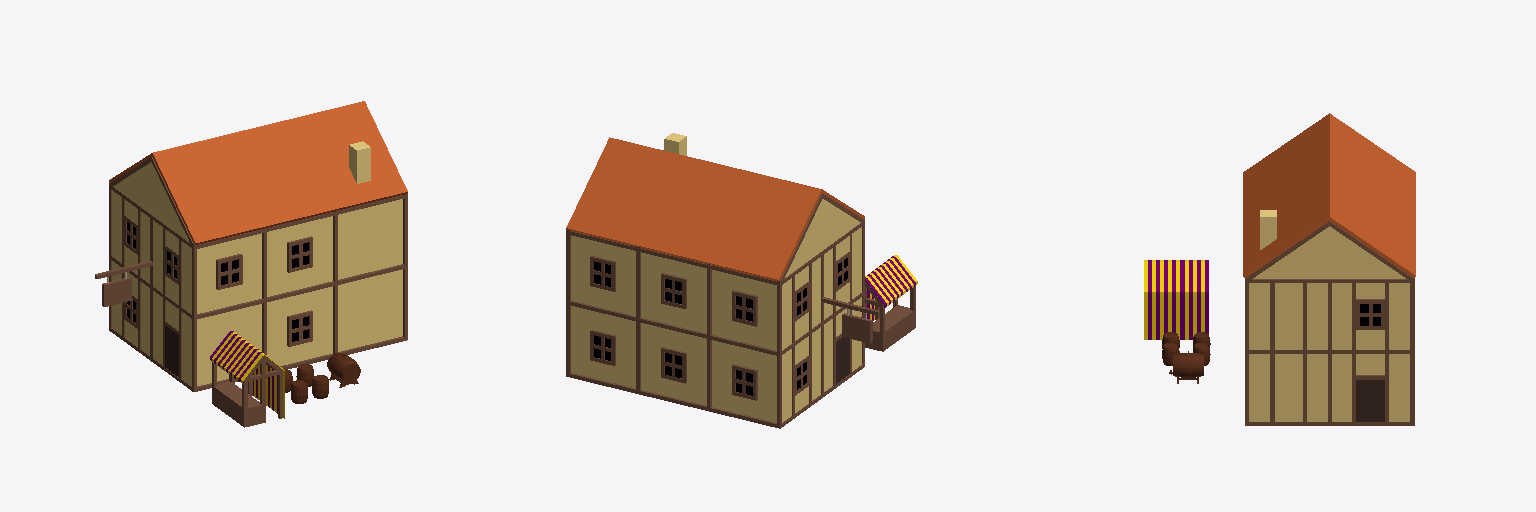
Rendered from timberframedvintner_purple_yellow.obj.
3 renders of one model, left to right at view 1: azimuth 30°, elevation 25°; view 2: azimuth 150°, elevation 25°; view 3: azimuth 270°, elevation 25°, orthographic.
Parts seen in each view (by area): view 1: Cube.005, Cube.007_Cube.011, Cube.011_Cube.015, Cube.018_Cube.016, Cube.056_Cube.081, barrel_Untitled, Cube.001_Cube.058, Cube.013_Cube.080, Cube.006_Cube.010, Cube.026_Cube.019, Cube.073_Cube.078, Cube.012_Cube.017 (+6 smaller); view 2: Cube.005, Cube.007_Cube.011, Cube.023_Cube.026, Cube.022_Cube.025, Cube.021_Cube.024, Cube.015_Cube.020, Cube.019_Cube.022, Cube.017_Cube.021, Cube.014_Cube.018, Cube.008, Cube.020_Cube.023, Cube.073_Cube.078 (+6 smaller); view 3: Cube.005, Cube.007_Cube.011, Cube.147_Cube.153, Cube.003, Cube.033, barrel_Untitled, Cube.027, Cube.047_Cube.049, Cube.031, Cube.006_Cube.010, Cube.016_Cube.013, Cube.012_Cube.017 (+5 smaller).
Boxes of the visible parts, <box> form: Cube.005: <box>112,162,402,385</box>; Cube.007_Cube.011: <box>109,101,407,244</box>; Cube.011_Cube.015: <box>195,264,406,319</box>; Cube.018_Cube.016: <box>195,195,406,249</box>; Cube.056_Cube.081: <box>216,254,242,289</box>; barrel_Untitled: <box>327,353,360,387</box>; Cube.001_Cube.058: <box>287,310,312,346</box>; Cube.013_Cube.080: <box>287,236,312,272</box>; Cube.006_Cube.010: <box>349,141,370,183</box>; Cube.026_Cube.019: <box>192,243,196,391</box>; Cube.073_Cube.078: <box>102,277,131,306</box>; Cube.012_Cube.017: <box>403,193,407,339</box>; Cube.005: <box>571,199,861,422</box>; Cube.007_Cube.011: <box>566,137,864,280</box>; Cube.023_Cube.026: <box>567,373,776,427</box>; Cube.022_Cube.025: <box>567,301,777,355</box>; Cube.021_Cube.024: <box>570,231,776,284</box>; Cube.015_Cube.020: <box>732,290,757,326</box>; Cube.019_Cube.022: <box>661,347,686,383</box>; Cube.017_Cube.021: <box>590,330,615,365</box>; Cube.014_Cube.018: <box>661,273,686,308</box>; Cube.008: <box>590,255,615,291</box>; Cube.020_Cube.023: <box>732,364,757,400</box>; Cube.073_Cube.078: <box>842,313,872,343</box>; Cube.005: <box>1249,226,1409,421</box>; Cube.007_Cube.011: <box>1243,113,1415,277</box>; Cube.147_Cube.153: <box>1144,292,1208,339</box>; Cube.003: <box>1356,380,1384,421</box>; Cube.033: <box>1356,299,1384,329</box>; barrel_Untitled: <box>1169,351,1203,383</box>; Cube.027: <box>1410,277,1414,425</box>; Cube.047_Cube.049: <box>1270,279,1274,423</box>; Cube.031: <box>1249,422,1410,425</box>; Cube.006_Cube.010: <box>1260,210,1276,249</box>; Cube.016_Cube.013: <box>1248,350,1409,353</box>; Cube.012_Cube.017: <box>1245,277,1248,425</box>.
Bounding box in the file's own units: 15.3 × 11.25 × 13.34.